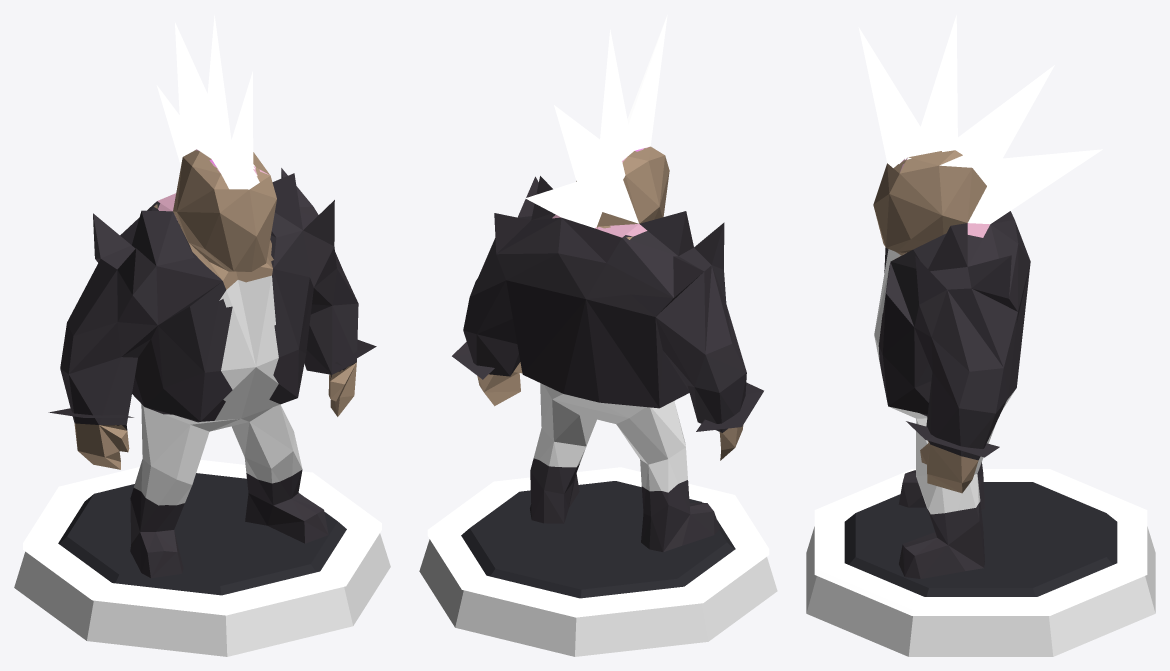
The model's file is punk.glb.
3 views of the same model, side by side, from view 1: azimuth 30°, elevation 25°; view 2: azimuth 150°, elevation 25°; view 3: azimuth 270°, elevation 25° (orthographic). The views are drawn at different scales.
Visible parts, largest first — view 1: pedina_punk; view 2: pedina_punk; view 3: pedina_punk.
Part boxes in pixels (box(x1,y1,x2,y2)): pedina_punk: box(14, 15, 390, 656); pedina_punk: box(419, 15, 777, 656); pedina_punk: box(806, 15, 1155, 656).
Bounding box in the file's own units: 0.5937 × 1.06 × 0.5913.
